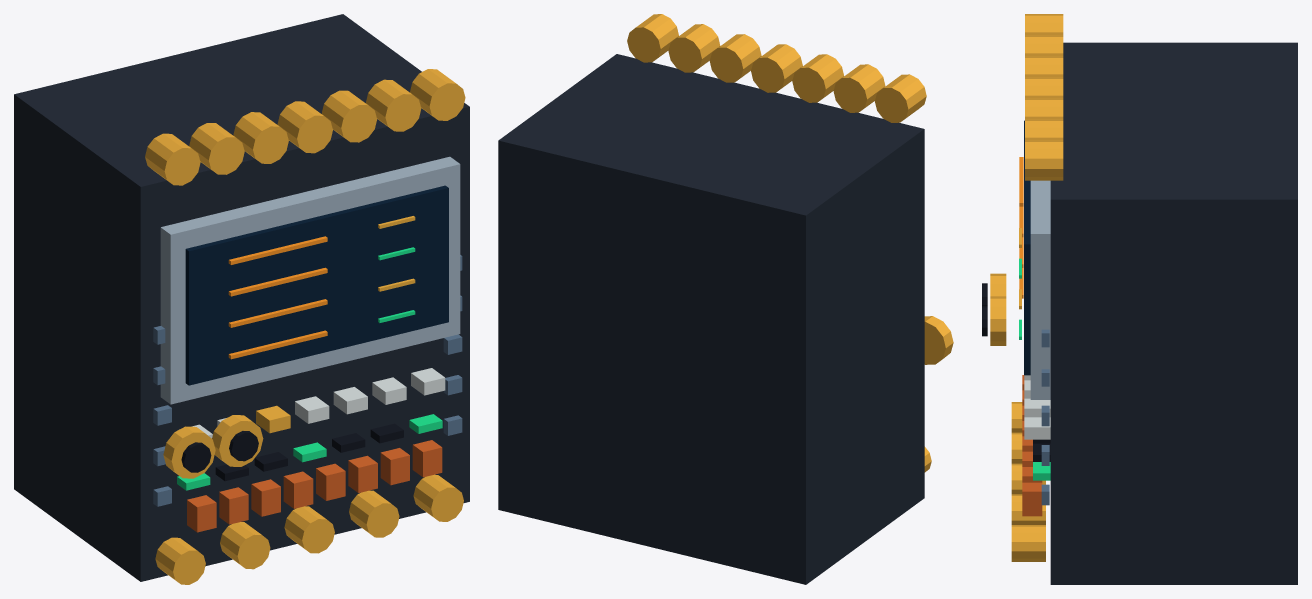
The model's file is 19_L86_RobotBrakeAndTorqueLimiter.fbx.
The picture shows the model from 3 angles, left to right: view 1: azimuth 30°, elevation 25°; view 2: azimuth 150°, elevation 25°; view 3: azimuth 270°, elevation 25°; orthographic projection. The views are drawn at different scales.
Parts seen in each view (by area): view 1: L86_RobotBrakeAndTorqueLimiter, L86_RobotBrakeAndTorqueLimiter_Part_0010, L86_RobotBrakeAndTorqueLimiter_Part_0011, L86_RobotBrakeAndTorqueLimiter_Part_0013, L86_RobotBrakeAndTorqueLimiter_Part_0012, L86_RobotBrakeAndTorqueLimiter_Part_0014; view 2: L86_RobotBrakeAndTorqueLimiter, L86_RobotBrakeAndTorqueLimiter_Part_0010, L86_RobotBrakeAndTorqueLimiter_Part_0011; view 3: L86_RobotBrakeAndTorqueLimiter, L86_RobotBrakeAndTorqueLimiter_Part_0010, L86_RobotBrakeAndTorqueLimiter_Part_0013.
Boxes of the visible parts, box(x1,y1,x2,y2) form: L86_RobotBrakeAndTorqueLimiter: box(14, 14, 469, 584); L86_RobotBrakeAndTorqueLimiter_Part_0010: box(145, 69, 465, 185); L86_RobotBrakeAndTorqueLimiter_Part_0011: box(163, 426, 215, 478); L86_RobotBrakeAndTorqueLimiter_Part_0013: box(212, 415, 263, 466); L86_RobotBrakeAndTorqueLimiter_Part_0012: box(181, 442, 211, 472); L86_RobotBrakeAndTorqueLimiter_Part_0014: box(229, 431, 258, 461); L86_RobotBrakeAndTorqueLimiter: box(498, 54, 931, 584); L86_RobotBrakeAndTorqueLimiter_Part_0010: box(627, 14, 926, 122); L86_RobotBrakeAndTorqueLimiter_Part_0011: box(924, 316, 953, 364); L86_RobotBrakeAndTorqueLimiter: box(1011, 42, 1297, 584); L86_RobotBrakeAndTorqueLimiter_Part_0010: box(1025, 14, 1063, 180); L86_RobotBrakeAndTorqueLimiter_Part_0013: box(990, 296, 1006, 345).
Bounding box in the file's own units: 96.95 × 123 × 82.5.
